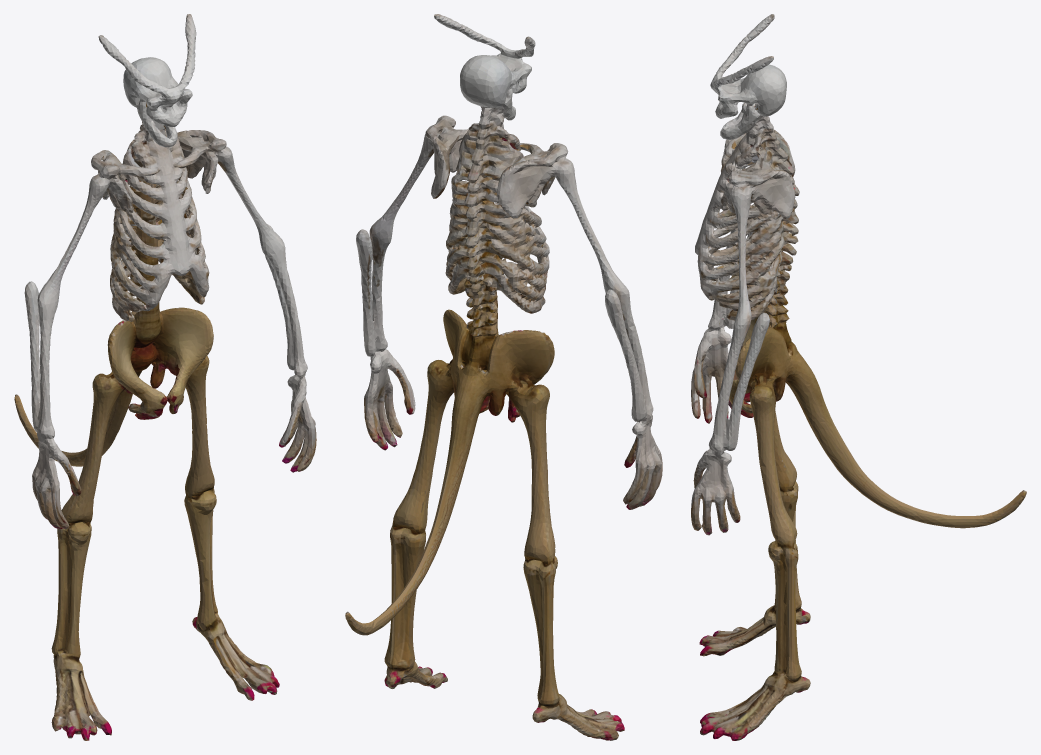
File: undead_skeleton3.glb
3 views of the same model, side by side, from view 1: azimuth 30°, elevation 25°; view 2: azimuth 150°, elevation 25°; view 3: azimuth 270°, elevation 25° (orthographic). The views are drawn at different scales.
Parts seen in each view (by area): view 1: textured_mesh.obj; view 2: textured_mesh.obj; view 3: textured_mesh.obj.
Boxes of the visible parts, <box> form: textured_mesh.obj: <box>14,14,316,740</box>; textured_mesh.obj: <box>345,14,662,740</box>; textured_mesh.obj: <box>691,14,1026,740</box>.
Size of the model in its own units: 0.853 by 1.99 by 0.924.
1 material, 1 textured.
